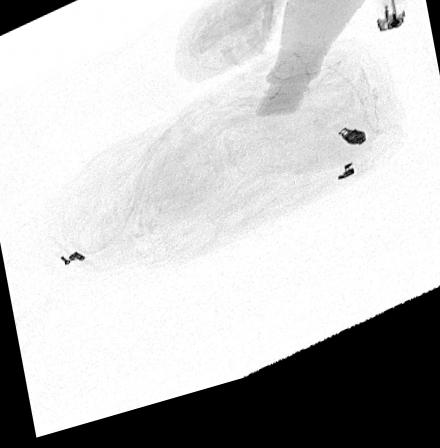Lighter: (374, 0, 408, 55)
